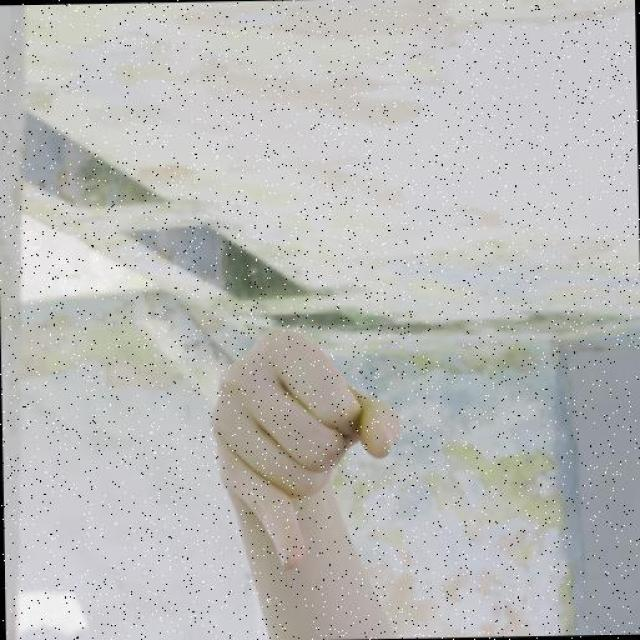J: (164, 300, 465, 635)
